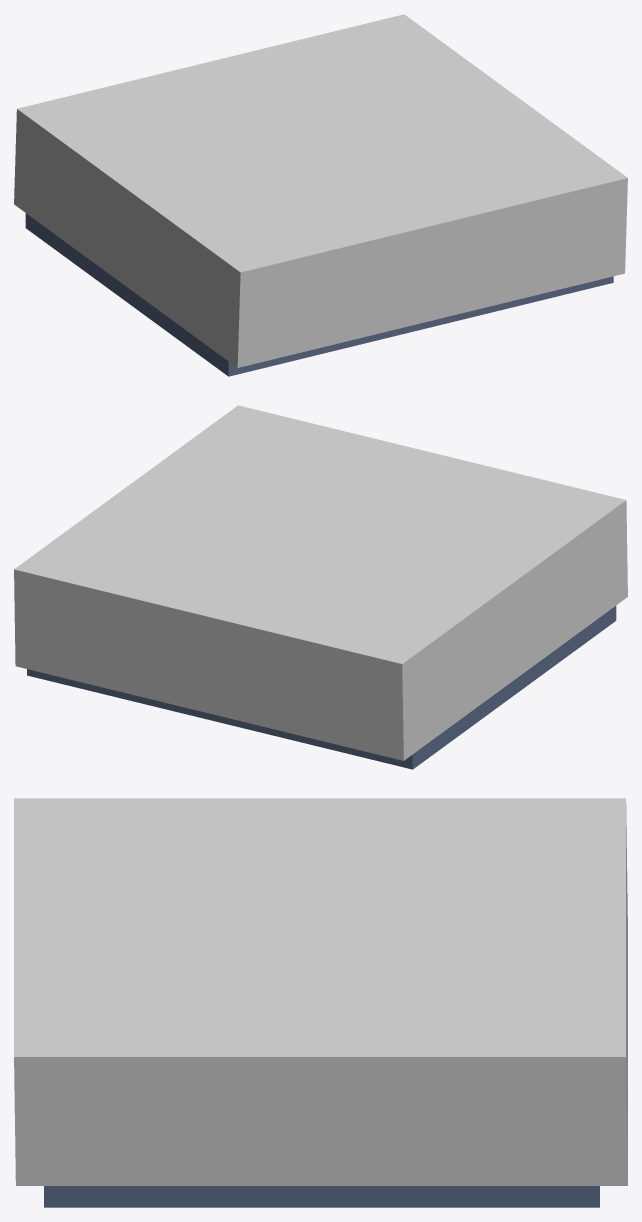
File: escola10.fbx
3 views of the same model, one above another, from view 1: azimuth 30°, elevation 25°; view 2: azimuth 150°, elevation 25°; view 3: azimuth 270°, elevation 25° (orthographic). The views are drawn at different scales.
Parts seen in each view (by area): view 1: Cube, Plane; view 2: Cube, Plane; view 3: Cube, Plane.
Boxes of the visible parts, bbox=[...] form: Cube: bbox=[14, 14, 627, 367]; Plane: bbox=[25, 213, 613, 376]; Cube: bbox=[14, 405, 627, 760]; Plane: bbox=[27, 606, 616, 769]; Cube: bbox=[14, 798, 627, 1185]; Plane: bbox=[44, 1186, 599, 1207].
Bounding box in the file's own units: 7086 × 1948 × 7068.
